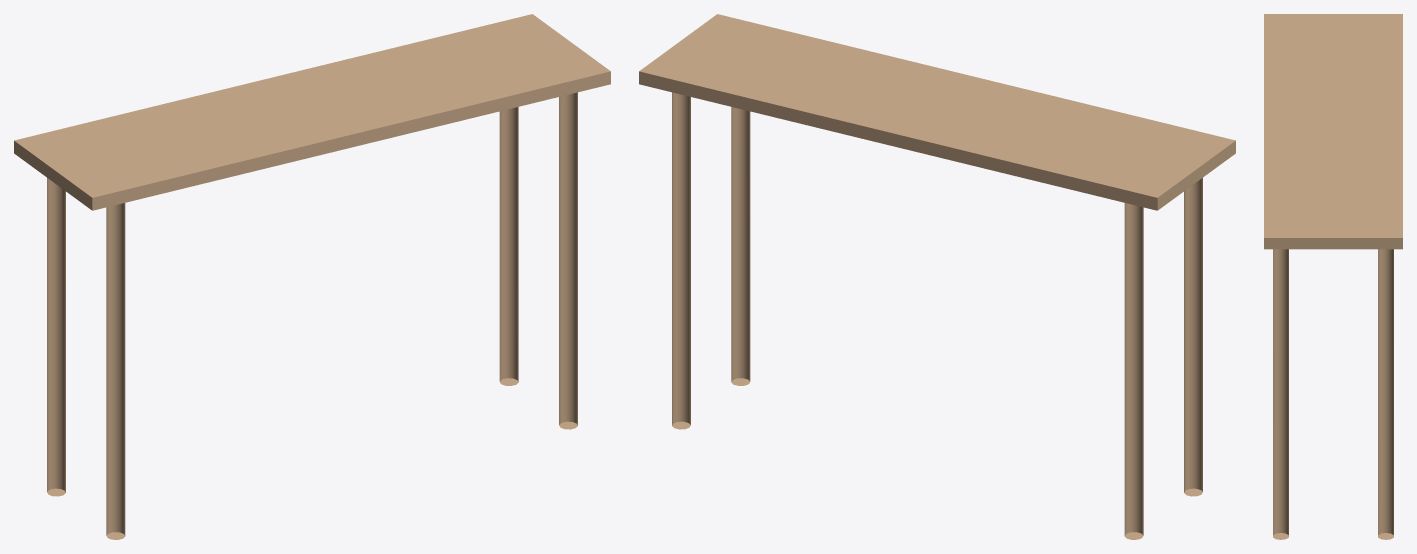
The model's file is console_table_02.glb.
3 renders of one model, left to right at view 1: azimuth 30°, elevation 25°; view 2: azimuth 150°, elevation 25°; view 3: azimuth 270°, elevation 25°, orthographic. The views are drawn at different scales.
Size of the model in its own units: 1.26 by 0.82 by 0.33.
